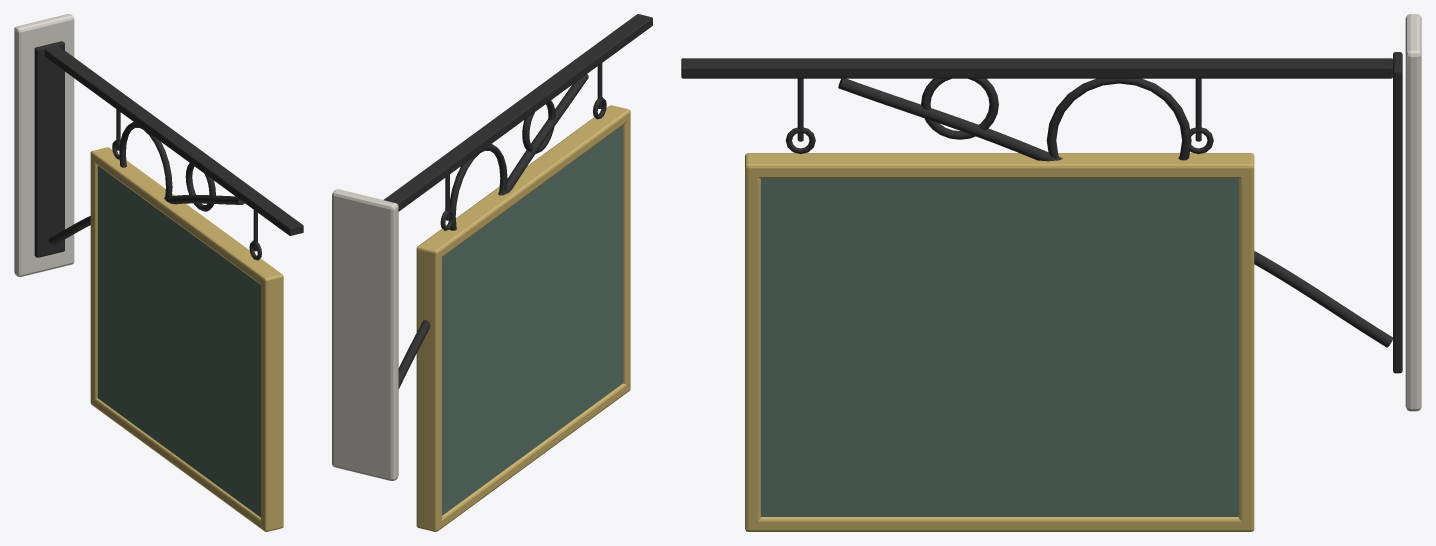
Rendered from city-hanging-shop-sign.glb.
3 views of the same model, side by side, from view 1: azimuth 30°, elevation 25°; view 2: azimuth 150°, elevation 25°; view 3: azimuth 270°, elevation 25° (orthographic). The views are drawn at different scales.
Parts seen in each view (by area): view 1: Assembly | Blank painted sign board, Assembly | Black wrought iron bracket, Assembly | Gilded edge moulding, Assembly | Plaster wall plate; view 2: Assembly | Blank painted sign board, Assembly | Plaster wall plate, Assembly | Gilded edge moulding, Assembly | Black wrought iron bracket; view 3: Assembly | Blank painted sign board, Assembly | Gilded edge moulding, Assembly | Black wrought iron bracket, Assembly | Plaster wall plate.
Part boxes in pixels (x1,y1,x2,y2): Assembly | Blank painted sign board: (97, 165, 260, 517); Assembly | Black wrought iron bracket: (34, 41, 303, 260); Assembly | Gilded edge moulding: (90, 147, 283, 531); Assembly | Plaster wall plate: (14, 14, 74, 276); Assembly | Blank painted sign board: (442, 125, 622, 515); Assembly | Plaster wall plate: (332, 189, 398, 480); Assembly | Gilded edge moulding: (416, 105, 630, 531); Assembly | Black wrought iron bracket: (384, 14, 652, 388); Assembly | Blank painted sign board: (761, 178, 1238, 516); Assembly | Gilded edge moulding: (745, 153, 1254, 531); Assembly | Black wrought iron bracket: (681, 52, 1402, 373); Assembly | Plaster wall plate: (1405, 14, 1421, 411).
Size of the model in its own units: 0.12 by 0.685 by 0.93.
